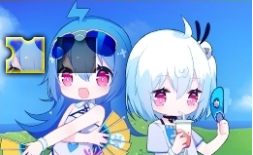gap: (58, 37, 97, 72)
